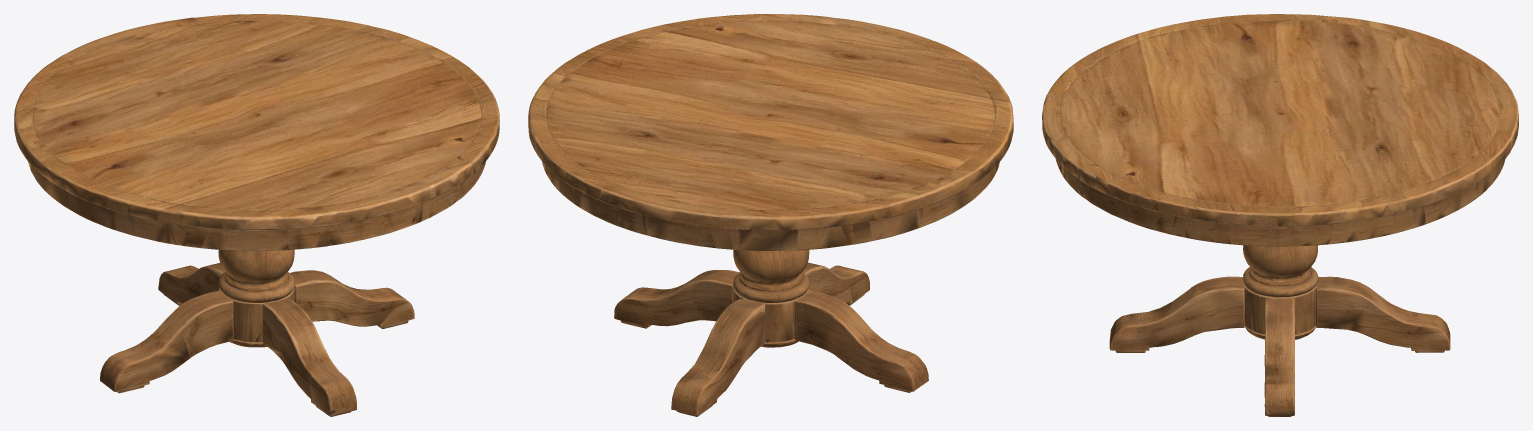
File: upm_mv3pqgvu73f.glb
3 renders of one model, left to right at view 1: azimuth 30°, elevation 25°; view 2: azimuth 150°, elevation 25°; view 3: azimuth 270°, elevation 25°, orthographic.
Bounding box in the file's own units: 1.9 × 1.03 × 1.9.
1 material, 1 textured.
